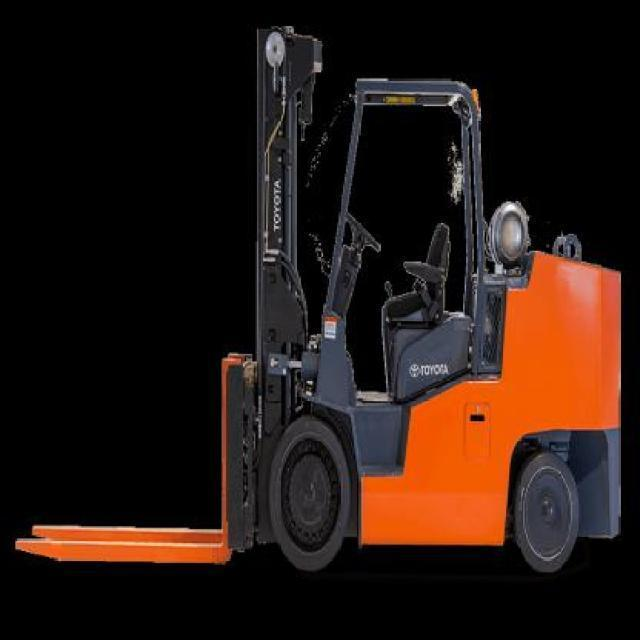forklift: (213, 70, 622, 576)
